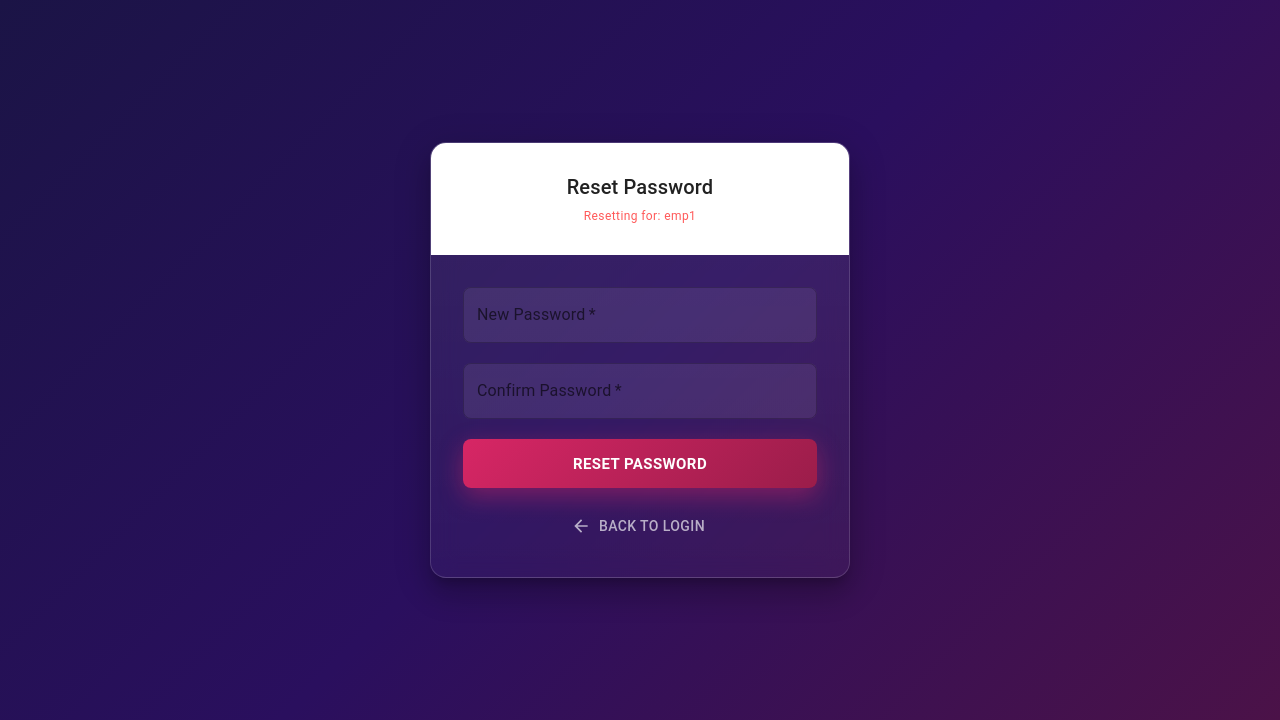
Test: ResetPasswordPage › shows success message after reset
Type "newpass1" into the password field labelled "New Password *" at (640, 315), box [463,287,817,343]
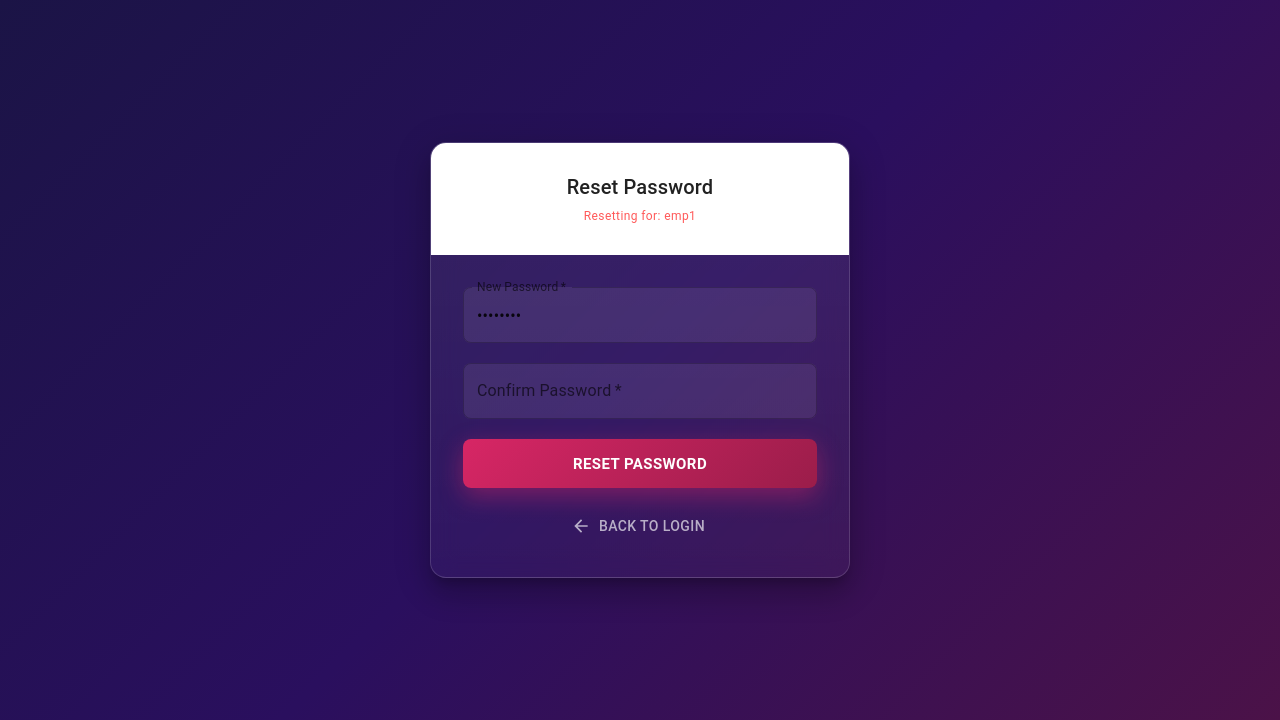
Type "newpass1" into the password field labelled "Confirm Password *" at (640, 391), box [463,363,817,419]
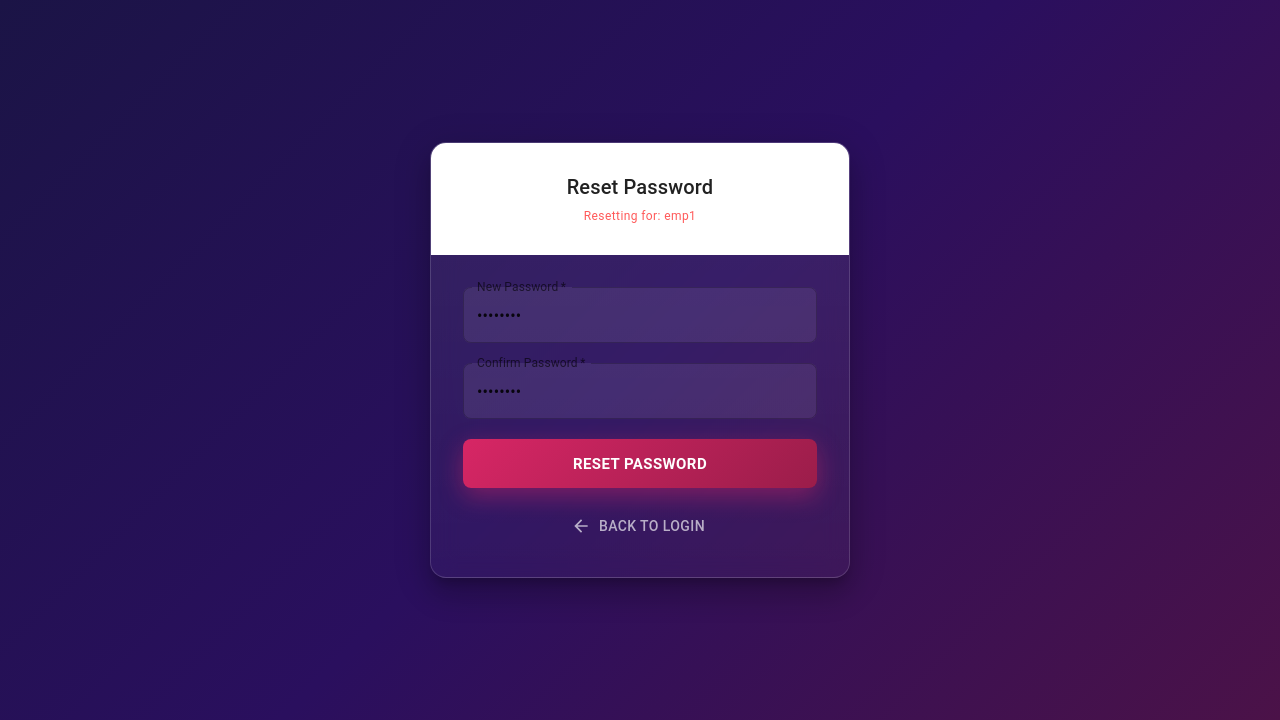
Click the button "Reset Password" at (640, 464), box [463,439,817,488]
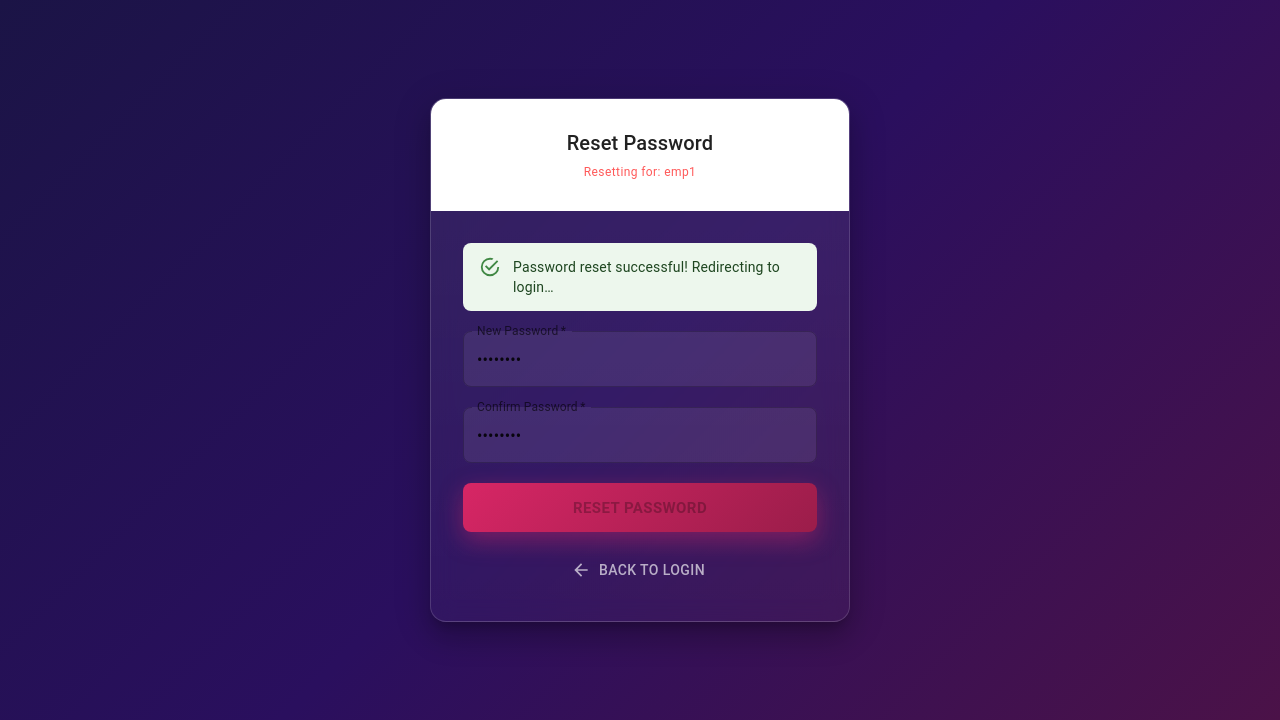
Result: the text "Password reset successful! Redirecting to login…" is shown at [513,249,801,305]
